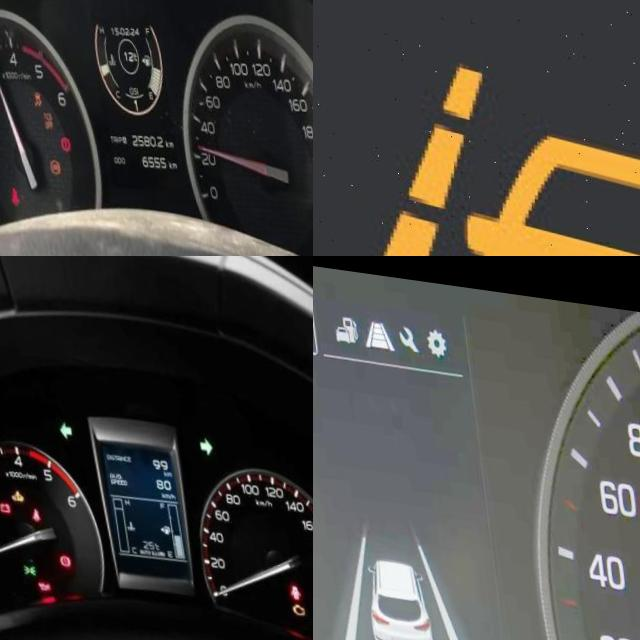Seat Belt: (0, 180, 10, 201), (22, 502, 30, 515)
